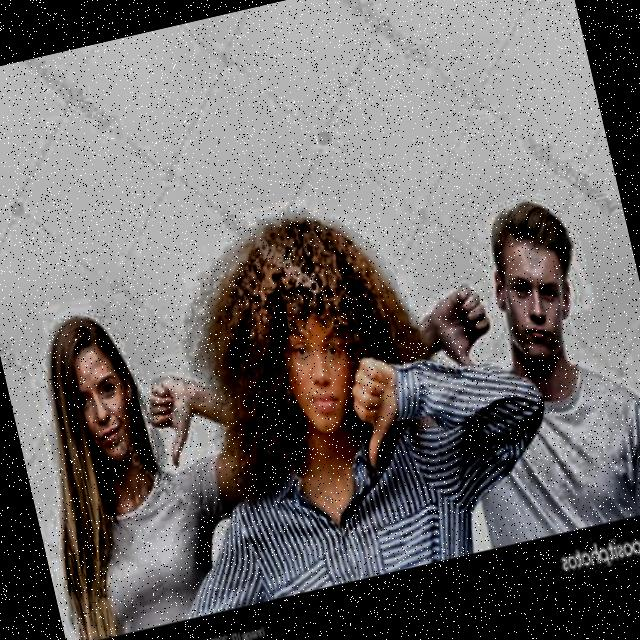neutral: (212, 209, 416, 483), (24, 291, 173, 498)
sad: (473, 213, 591, 367)
